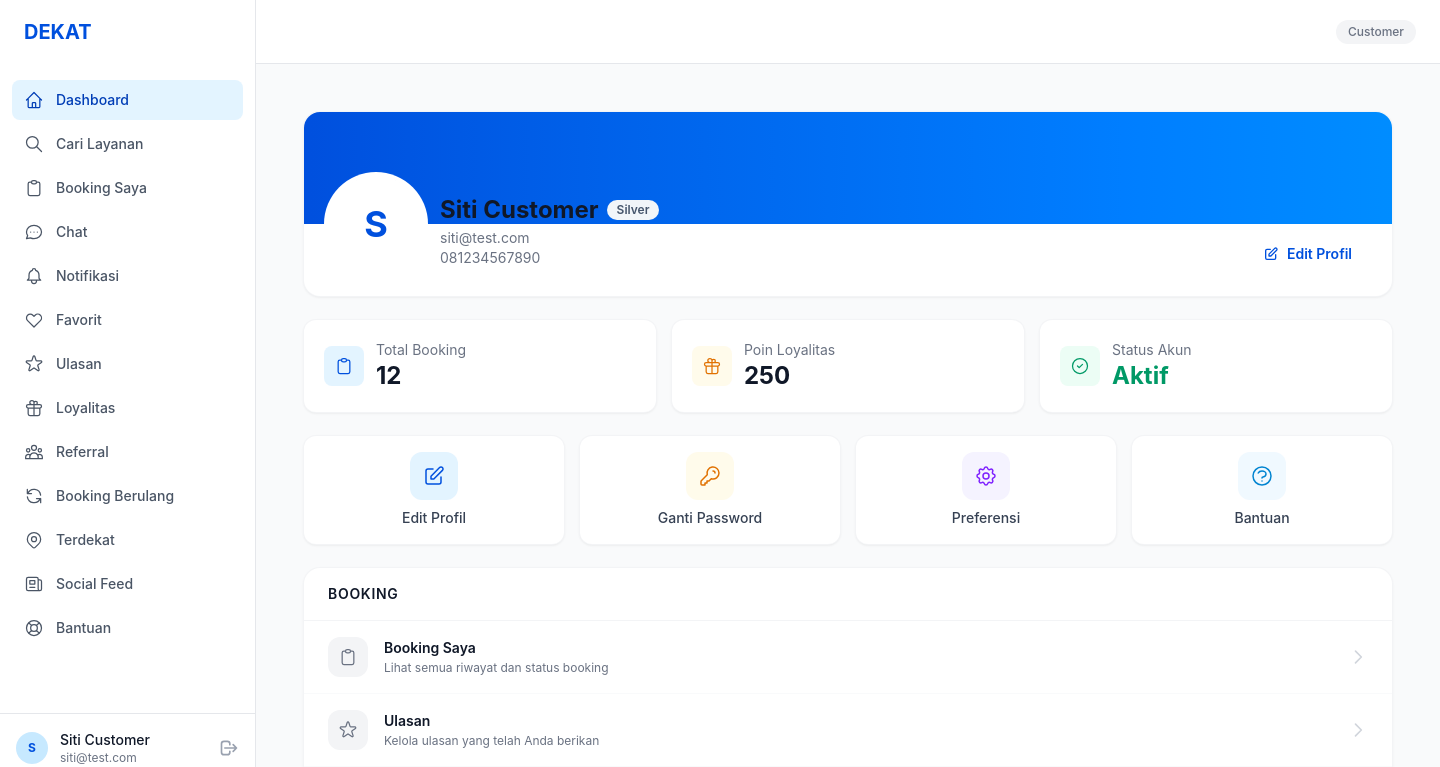
Scenario: CustomerAccountPage › shows profile update success message
Click the button "Edit Profil" in the row of "081234567890".
click(1308, 254)  # box [1247,236,1368,272]
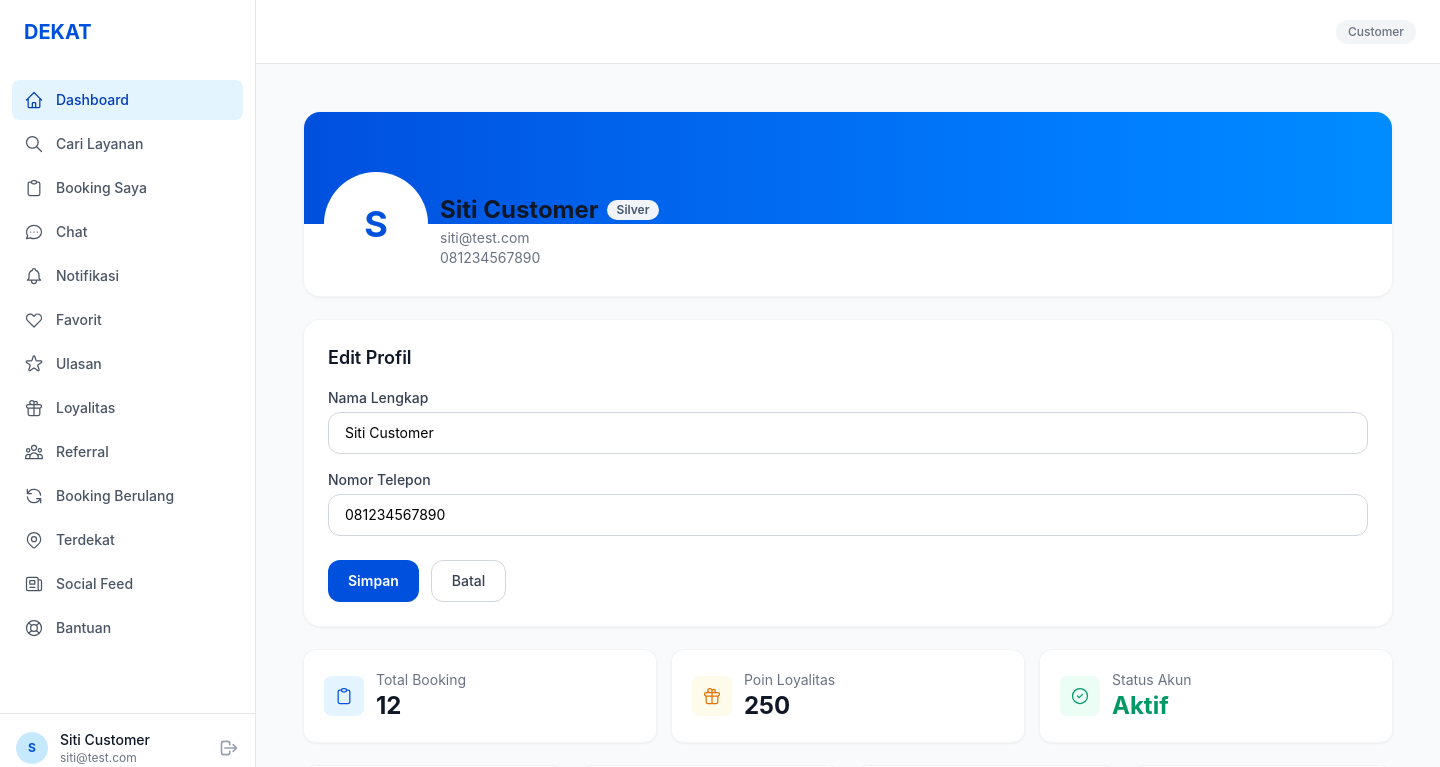
Result: the button "Simpan" is shown
Click the button "Simpan".
click(373, 581)  # box [328,560,419,602]
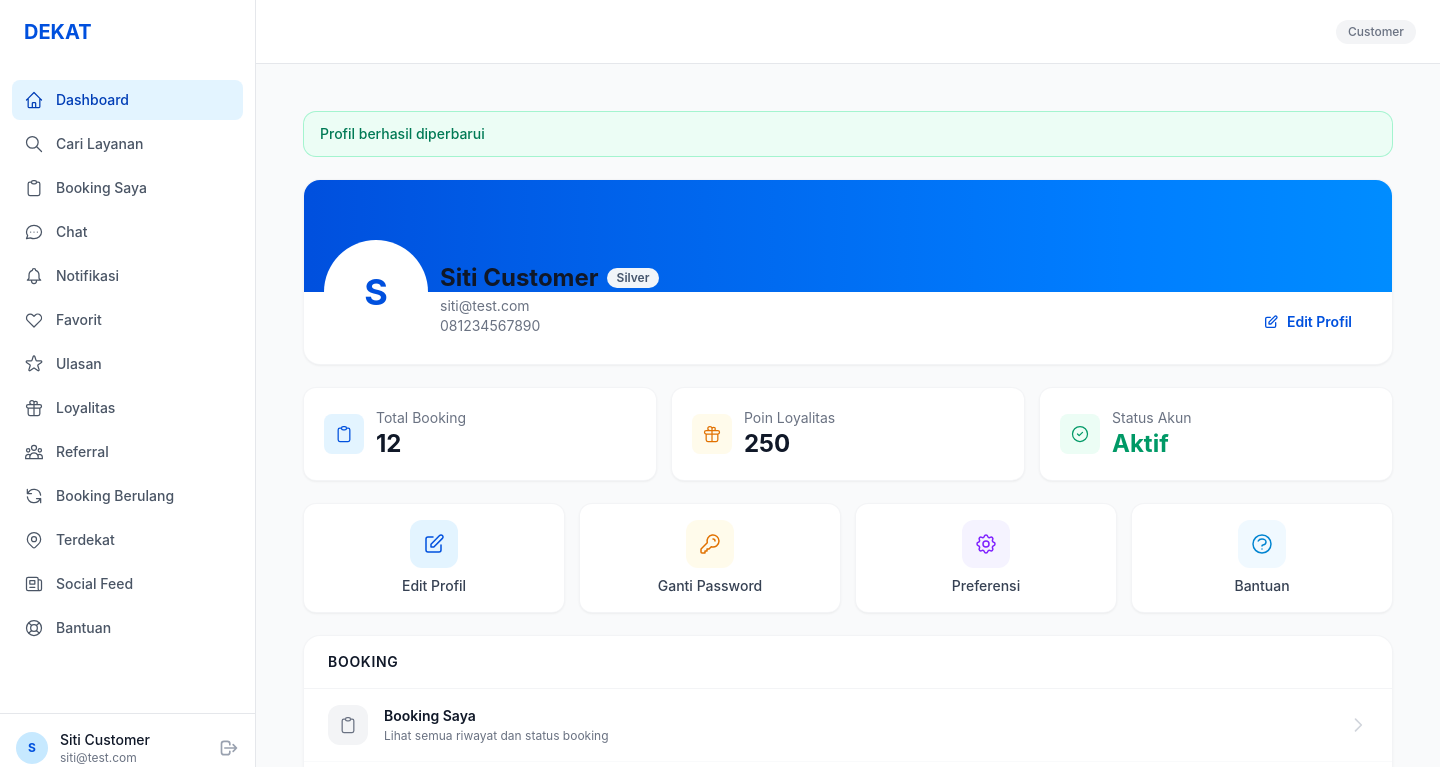
Result: the text "Profil berhasil diperbarui" is shown at [304,112,1392,156]
